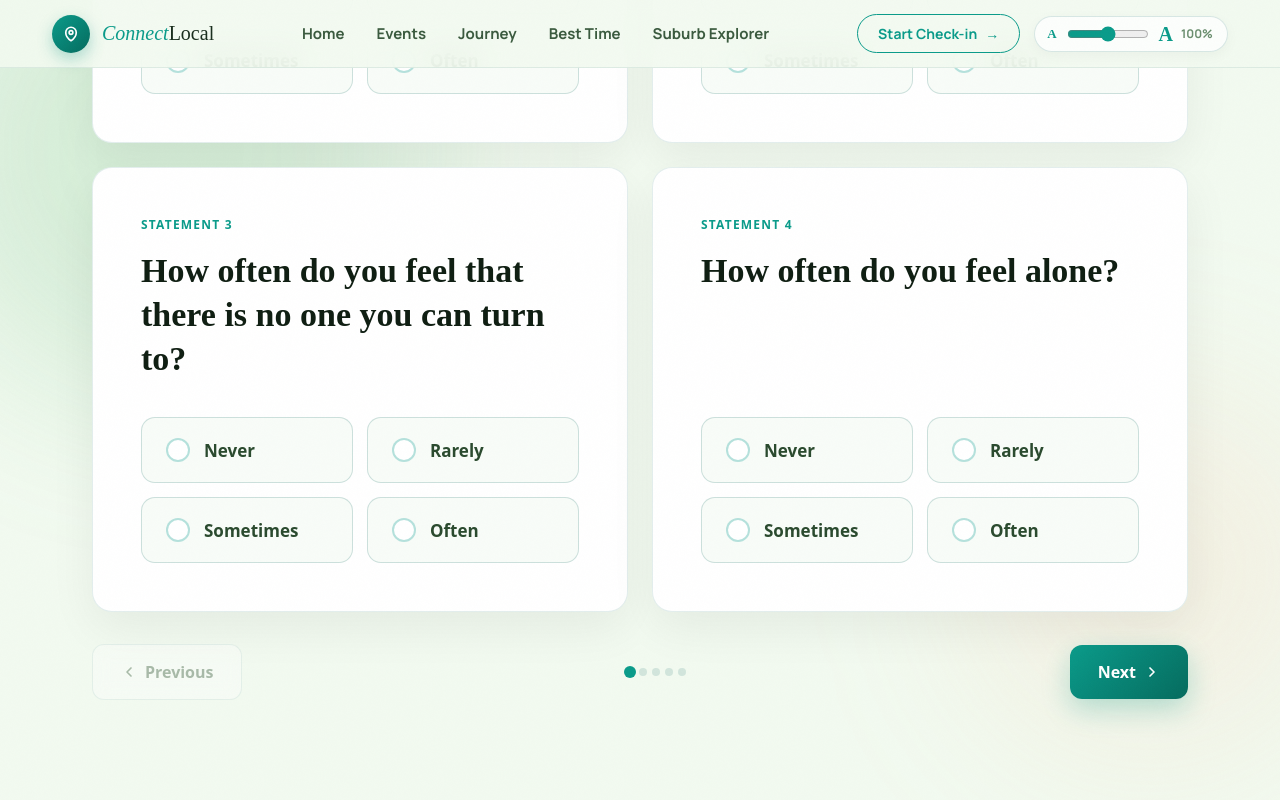
Scenario: CheckinFormPage › blocks Next button when no answer is selected (validation)
The image size is (1280, 800).
(page scrolled)
Click the button "Next". click: (1129, 672)
box: [1070,645,1188,699]
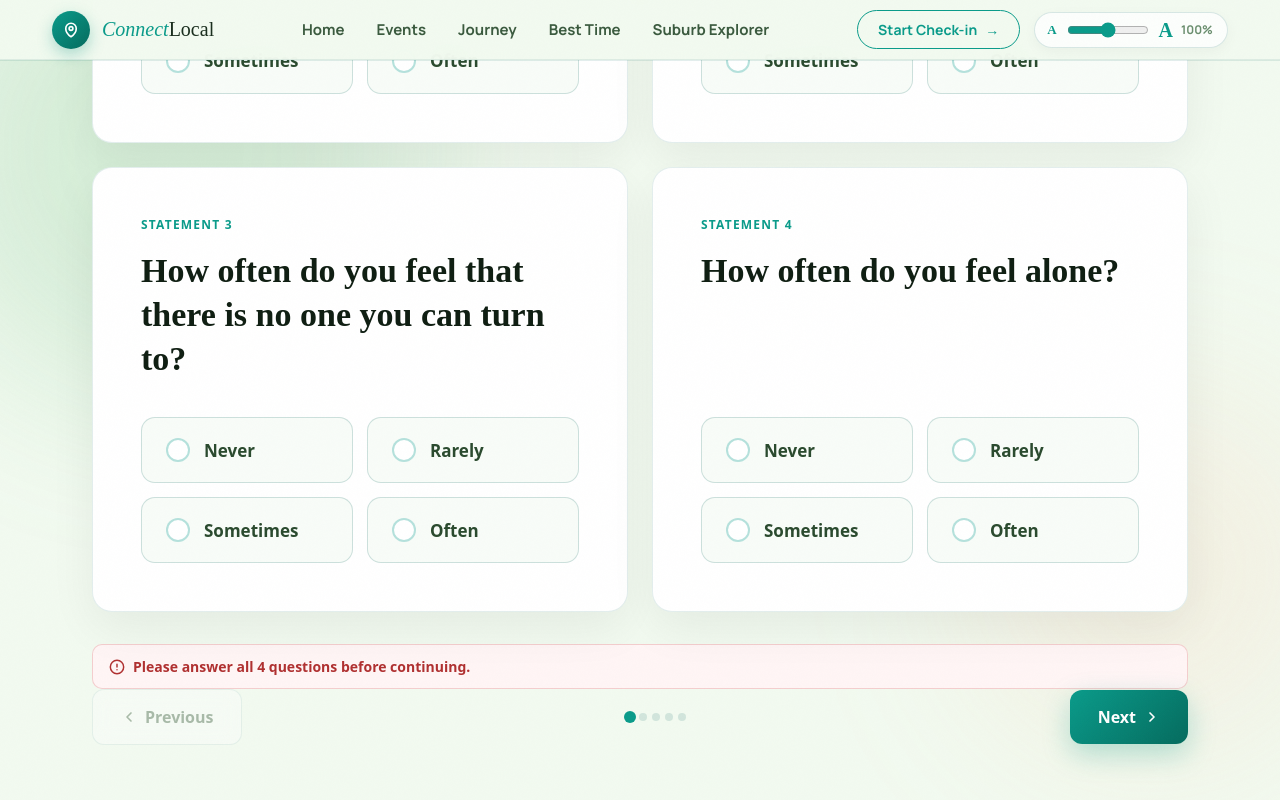
expect the text "Please answer all 4 questions before continuing." is shown: met, box [92,644,1188,689]
